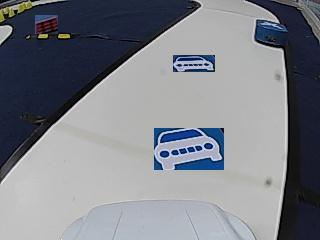prop: (254, 18, 289, 47)
